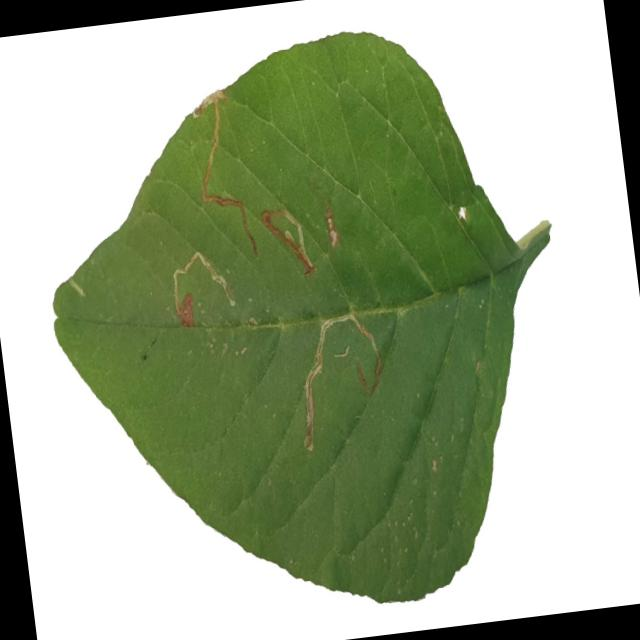Medicinal-Arive Dantu: (20, 3, 596, 640)
